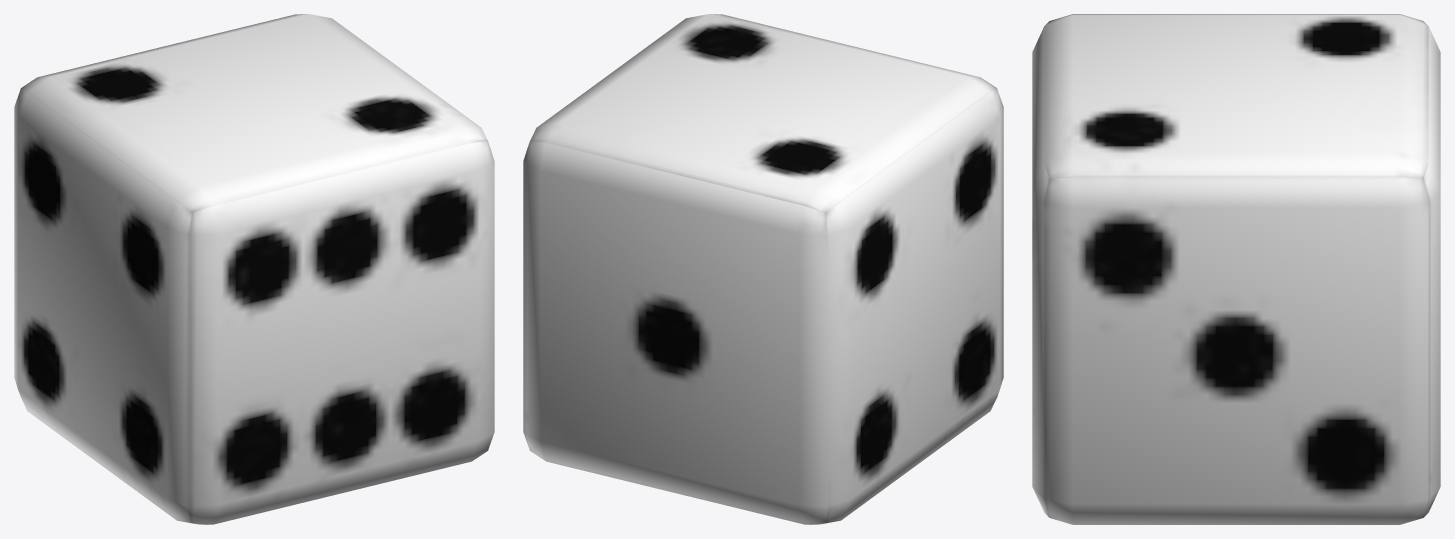
The model's file is die.gltf.
3 renders of one model, left to right at view 1: azimuth 30°, elevation 25°; view 2: azimuth 150°, elevation 25°; view 3: azimuth 270°, elevation 25°, orthographic. The views are drawn at different scales.
Parts seen in each view (by area): view 1: Dice; view 2: Dice; view 3: Dice.
Part boxes in pixels (box(x1,y1,x2,y2)): Dice: box(14, 14, 494, 524); Dice: box(523, 14, 1003, 524); Dice: box(1032, 14, 1440, 524).
Size of the model in its own units: 1 by 1 by 1.
